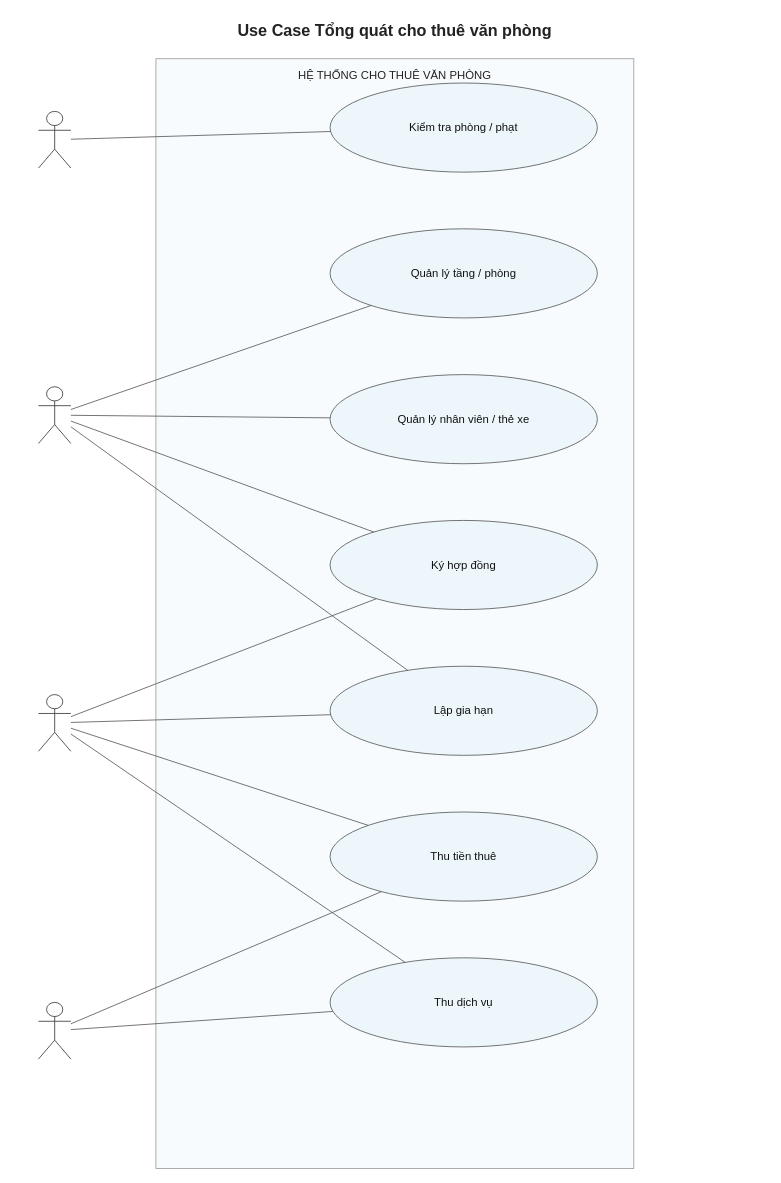
This 781x1183 diagram has some shape labels left out. The box of each missing label's shape, as (x1, y1, x2, y2) in pixels:
Kế toán: (38, 1002, 71, 1059)
Kỹ thuật: (38, 111, 71, 168)
Quản lý: (38, 386, 71, 443)
Đại diện công ty: (38, 694, 71, 751)
